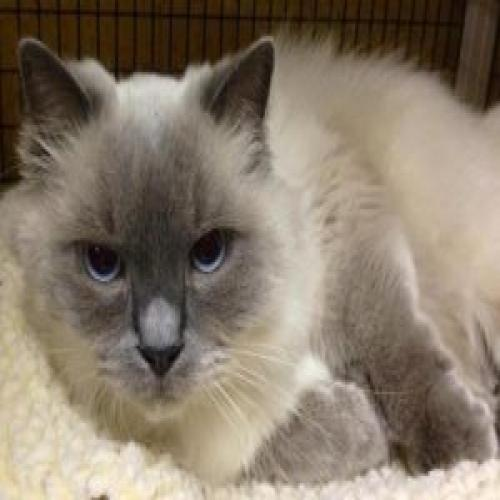ragdoll: (11, 29, 294, 437)
